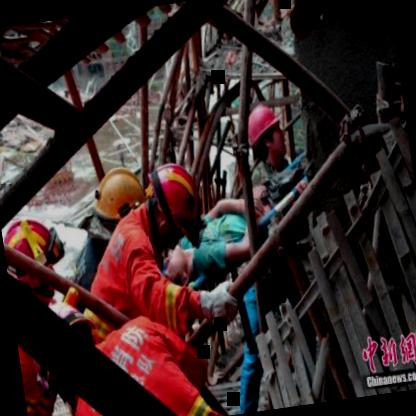helmet: (0, 208, 71, 308), (142, 157, 208, 244), (84, 158, 152, 235), (240, 97, 290, 170)
